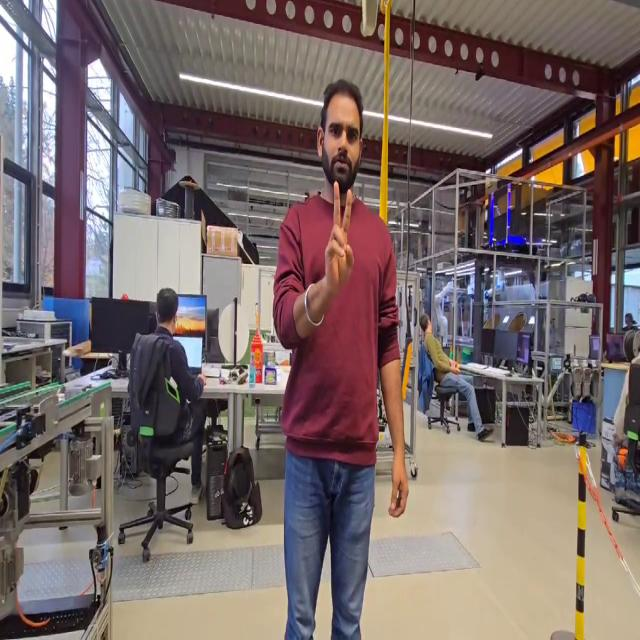v_sign: (324, 178, 357, 292)
